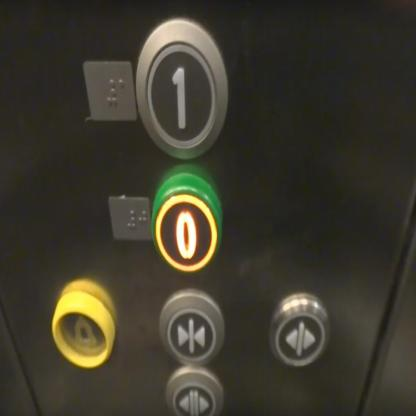0: (149, 171, 224, 275)
1: (135, 18, 229, 160)
alarm: (51, 290, 116, 371)
close: (158, 287, 225, 366)
open: (267, 292, 330, 367), (164, 364, 224, 416)
